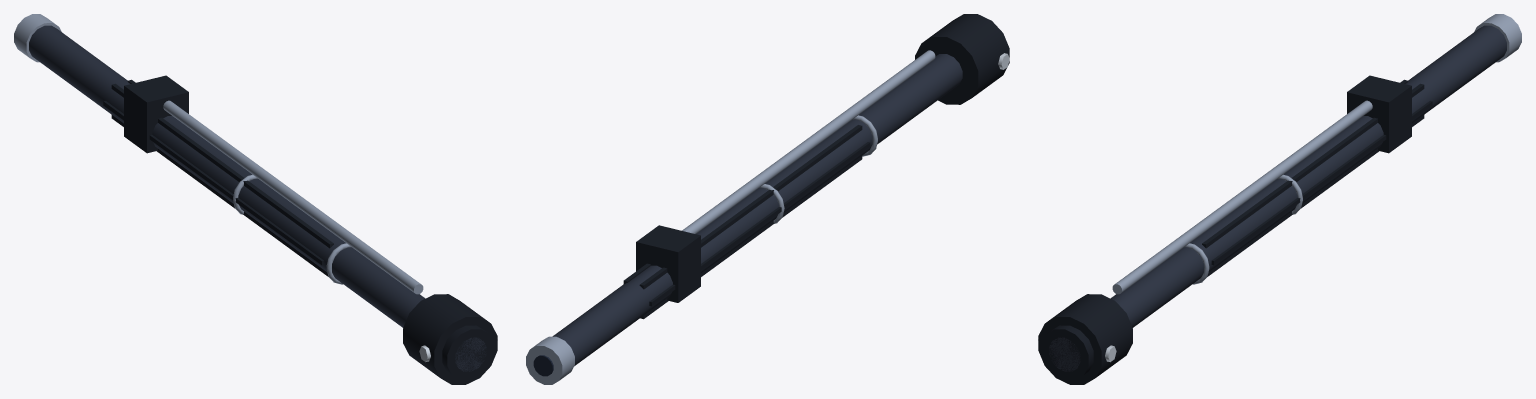
Rendered from attach_longbarrel.glb.
The picture shows the model from 3 angles, left to right: view 1: azimuth 30°, elevation 25°; view 2: azimuth 150°, elevation 25°; view 3: azimuth 330°, elevation 25°; orthographic projection.
Parts seen in each view (by area): view 1: attach_longbarrel_barrel_tube, attach_longbarrel_clamp, attach_longbarrel_gas_tube, attach_longbarrel_gas_block, attach_longbarrel_barrel_collar, attach_longbarrel_flute2, attach_longbarrel_flute3, attach_longbarrel_barrel_crown, attach_longbarrel_flute4; view 2: attach_longbarrel_barrel_tube, attach_longbarrel_clamp, attach_longbarrel_gas_tube, attach_longbarrel_gas_block, attach_longbarrel_flute2, attach_longbarrel_barrel_crown, attach_longbarrel_flute3, attach_longbarrel_flute4; view 3: attach_longbarrel_barrel_tube, attach_longbarrel_clamp, attach_longbarrel_gas_tube, attach_longbarrel_gas_block, attach_longbarrel_barrel_collar, attach_longbarrel_flute1, attach_longbarrel_flute0, attach_longbarrel_barrel_crown, attach_longbarrel_flute5.
Part boxes in pixels (x1,y1,x2,y2): attach_longbarrel_barrel_tube: (29,25,486,371); attach_longbarrel_clamp: (403,294,497,384); attach_longbarrel_gas_tube: (163,100,423,294); attach_longbarrel_gas_block: (124,75,188,153); attach_longbarrel_barrel_collar: (442,325,494,380); attach_longbarrel_flute2: (111,83,333,248); attach_longbarrel_flute3: (103,101,324,265); attach_longbarrel_barrel_crown: (14,14,61,62); attach_longbarrel_flute4: (111,115,328,276); attach_longbarrel_barrel_tube: (552,54,962,365); attach_longbarrel_clamp: (915,14,1009,104); attach_longbarrel_gas_tube: (682,50,935,233); attach_longbarrel_gas_block: (636,225,700,302); attach_longbarrel_flute2: (639,125,862,289); attach_longbarrel_barrel_crown: (526,336,574,384); attach_longbarrel_flute3: (649,142,870,306); attach_longbarrel_flute4: (640,156,862,319); attach_longbarrel_barrel_tube: (1049,25,1506,371); attach_longbarrel_clamp: (1038,294,1132,384); attach_longbarrel_gas_tube: (1112,100,1372,294); attach_longbarrel_gas_block: (1347,75,1411,153); attach_longbarrel_barrel_collar: (1041,325,1093,380); attach_longbarrel_flute1: (1202,83,1424,248); attach_longbarrel_flute0: (1211,101,1432,265); attach_longbarrel_barrel_crown: (1474,14,1521,62); attach_longbarrel_flute5: (1207,115,1424,276).
Size of the model in its own units: 0.039 by 0.0369 by 0.423.
